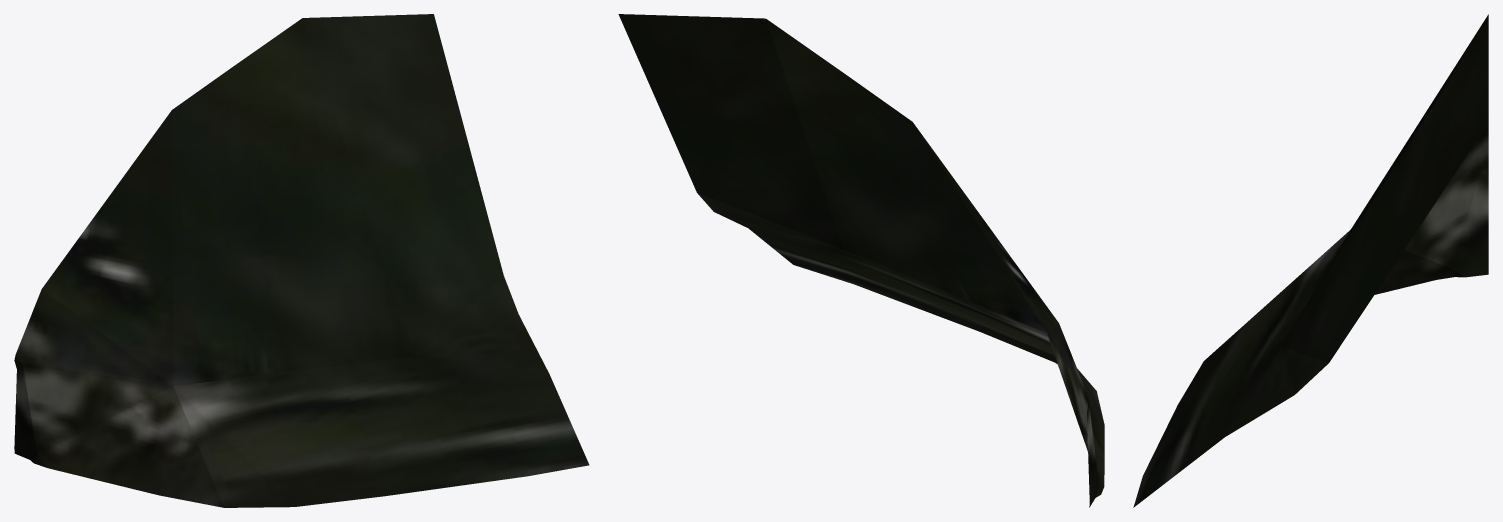
The picture shows the model from 3 angles, left to right: view 1: azimuth 30°, elevation 25°; view 2: azimuth 150°, elevation 25°; view 3: azimuth 270°, elevation 25°; orthographic projection. The views are drawn at different scales.
Bounding box in the file's own units: 0.328 × 0.273 × 0.2109.
Materials: 1 (1 with a texture image).
